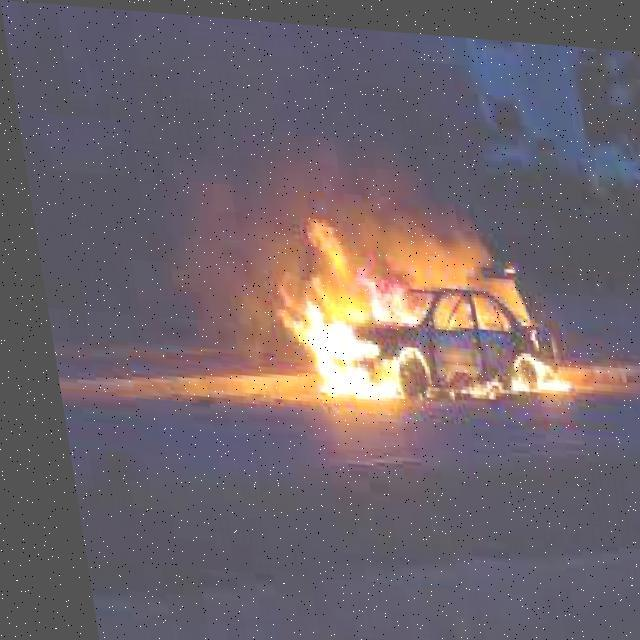Fire: (247, 207, 440, 407), (466, 284, 578, 408)
